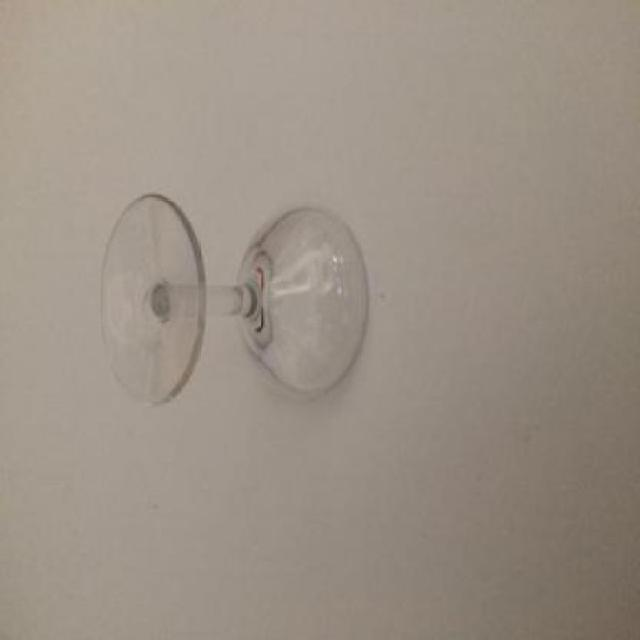kaca: (99, 194, 368, 406)
